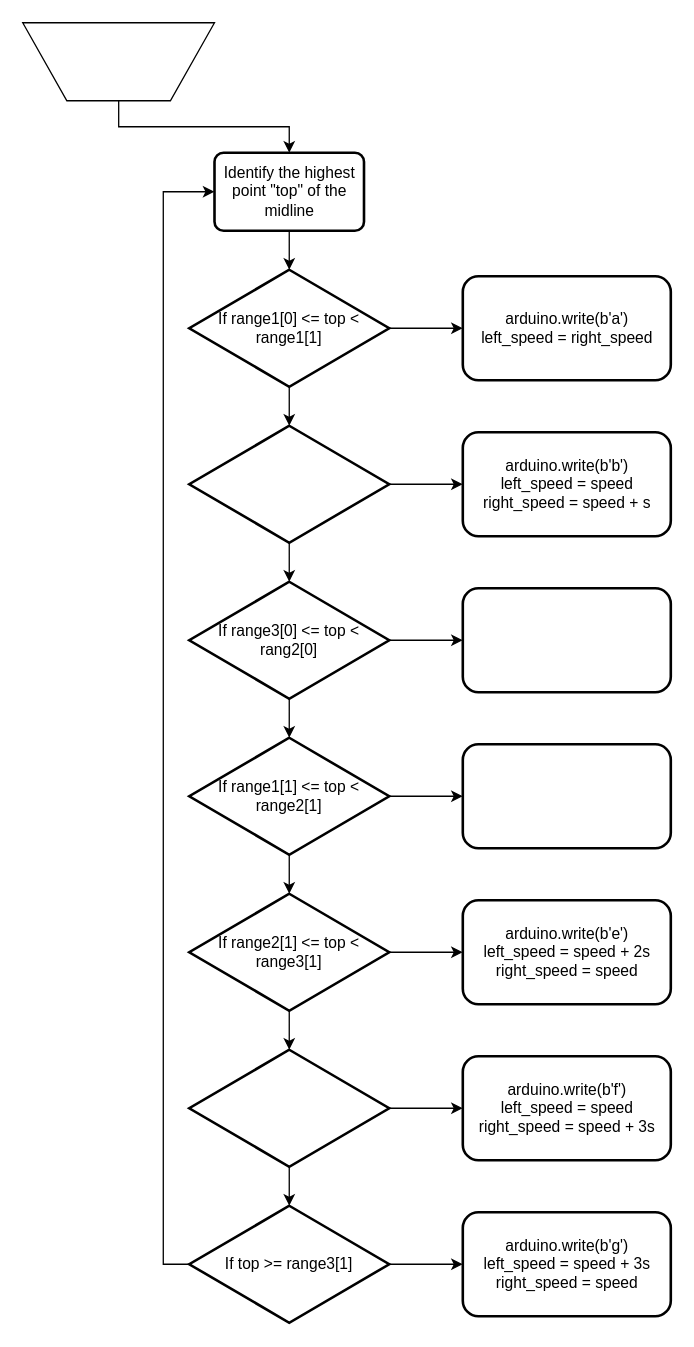
This 694x1347 diagram has some shape labels left out. Here are the shapes that lost their labels. From the top down, the centre of each, then its label:
At point 117,61: "Run 'robot_control.py'".
At point 288,483: "If range2[0] <= top < range1[0]".
At point 566,639: "arduino.write(b'c') left_speed = speed right_speed = speed + 2s".
At point 566,795: "arduino.write(b'd') left_speed = speed + s right_speed = speed".
At point 288,1107: "If top < range3[0]".
